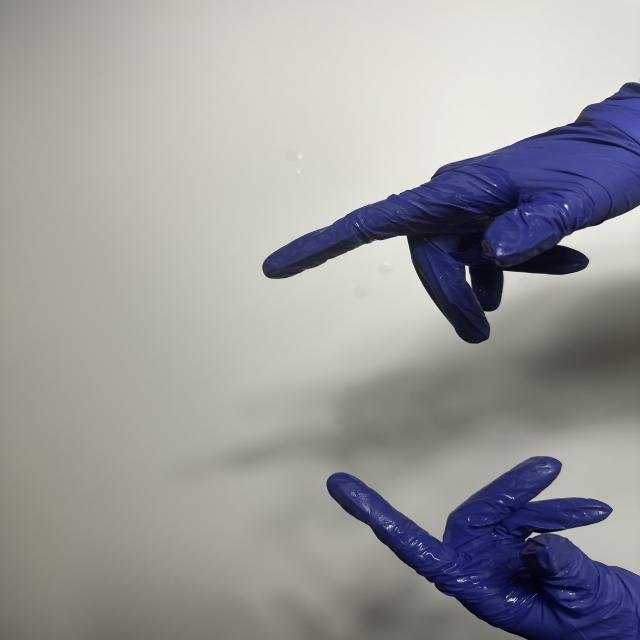gloves_contaminated: (263, 83, 640, 343), (328, 457, 640, 640)
